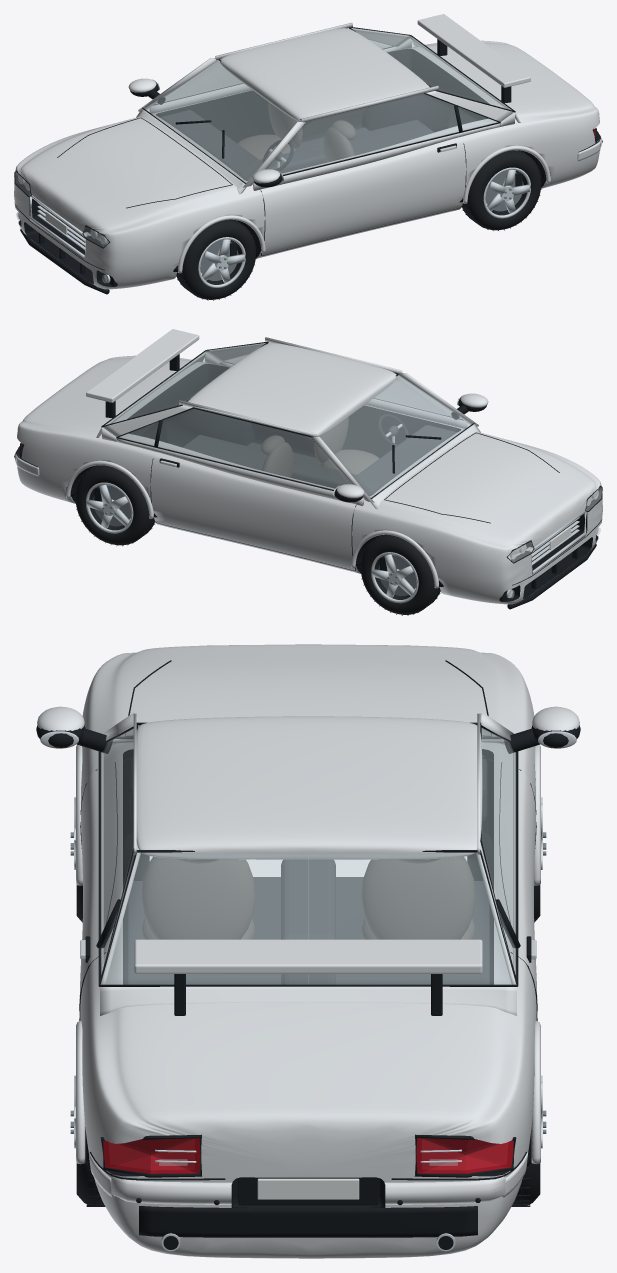
The model's file is generic-1990s-japanese-style-sports-coupe.glb.
3 renders of one model, top to bottom at view 1: azimuth 30°, elevation 25°; view 2: azimuth 150°, elevation 25°; view 3: azimuth 270°, elevation 25°, orthographic. The views are drawn at different scales.
Visible parts, largest first — view 1: Original nineties_sports_coupe fourteen-section body shell, Separate closed door panel, Crowned roof pressing, Raked transparent windscreen, Single long coupe door glass, Separate closed door panel.001, Rear transparent coupe glass, Original tyre carcass and shaped sidewalls.002, Original tyre carcass and shaped sidewalls, Rear spoiler airfoil, Sculpted instrument panel, Wheelhouse arched liner.003 (+26 smaller); view 2: Original nineties_sports_coupe fourteen-section body shell, Separate closed door panel.001, Crowned roof pressing, Raked transparent windscreen, Single long coupe door glass.001, Separate closed door panel, Rear transparent coupe glass, Original tyre carcass and shaped sidewalls.003, Original tyre carcass and shaped sidewalls.001, Rear spoiler airfoil, Sculpted instrument panel, Wheelhouse arched liner.002 (+27 smaller); view 3: Original nineties_sports_coupe fourteen-section body shell, Crowned roof pressing, Rear transparent coupe glass, Rear spoiler airfoil, Sculpted rear lower bumper insert, Interior carpet, Contoured seat back, Contoured seat back.001, Painted rear glass sill, Single long coupe door glass.001, Single long coupe door glass, Formed painted rear bumper cover (+22 smaller).
Boxes of the visible parts, x1,y1,x2,y2 form: Original nineties_sports_coupe fourteen-section body shell: [14, 40, 600, 289]; Separate closed door panel: [260, 137, 466, 255]; Crowned roof pressing: [220, 28, 429, 121]; Raked transparent windscreen: [144, 60, 300, 182]; Single long coupe door glass: [266, 93, 497, 174]; Separate closed door panel.001: [162, 91, 362, 142]; Rear transparent coupe glass: [352, 28, 510, 109]; Original tyre carcass and shaped sidewalls.002: [462, 150, 541, 230]; Original tyre carcass and shaped sidewalls: [177, 219, 255, 299]; Rear spoiler airfoil: [417, 14, 530, 87]; Sculpted instrument panel: [159, 110, 271, 180]; Wheelhouse arched liner.003: [362, 93, 450, 132]; Original nineties_sports_coupe fourteen-section body shell: [16, 355, 602, 604]; Separate closed door panel.001: [150, 452, 356, 570]; Crowned roof pressing: [187, 343, 396, 436]; Raked transparent windscreen: [316, 375, 472, 497]; Single long coupe door glass.001: [119, 409, 350, 489]; Separate closed door panel: [254, 406, 454, 458]; Rear transparent coupe glass: [106, 343, 264, 424]; Original tyre carcass and shaped sidewalls.003: [75, 465, 154, 545]; Original tyre carcass and shaped sidewalls.001: [361, 534, 439, 614]; Rear spoiler airfoil: [86, 329, 199, 402]; Sculpted instrument panel: [345, 425, 457, 495]; Wheelhouse arched liner.002: [166, 409, 254, 447]; Original nineties_sports_coupe fourteen-section body shell: [80, 644, 536, 1258]; Crowned roof pressing: [136, 716, 482, 859]; Rear transparent coupe glass: [101, 852, 515, 984]; Rear spoiler airfoil: [134, 939, 482, 973]; Sculpted rear lower bumper insert: [139, 1206, 477, 1237]; Interior carpet: [127, 877, 489, 984]; Contoured seat back: [141, 856, 255, 939]; Contoured seat back.001: [361, 856, 475, 939]; Painted rear glass sill: [100, 986, 516, 1015]; Single long coupe door glass.001: [481, 728, 515, 974]; Single long coupe door glass: [101, 728, 133, 974]; Formed painted rear bumper cover: [111, 1176, 505, 1204].
Size of the model in its own units: 4.49 by 1.29 by 2.09.
11 materials, 11 textured.
